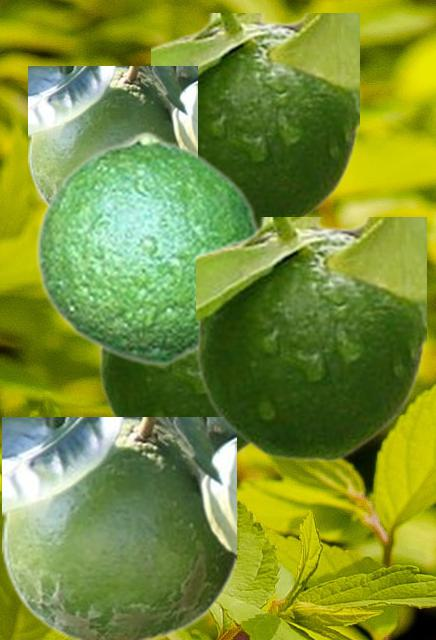dalandan: (196, 217, 425, 460), (33, 130, 258, 366), (2, 417, 235, 638), (151, 13, 358, 219), (28, 66, 196, 203), (99, 350, 250, 458)
